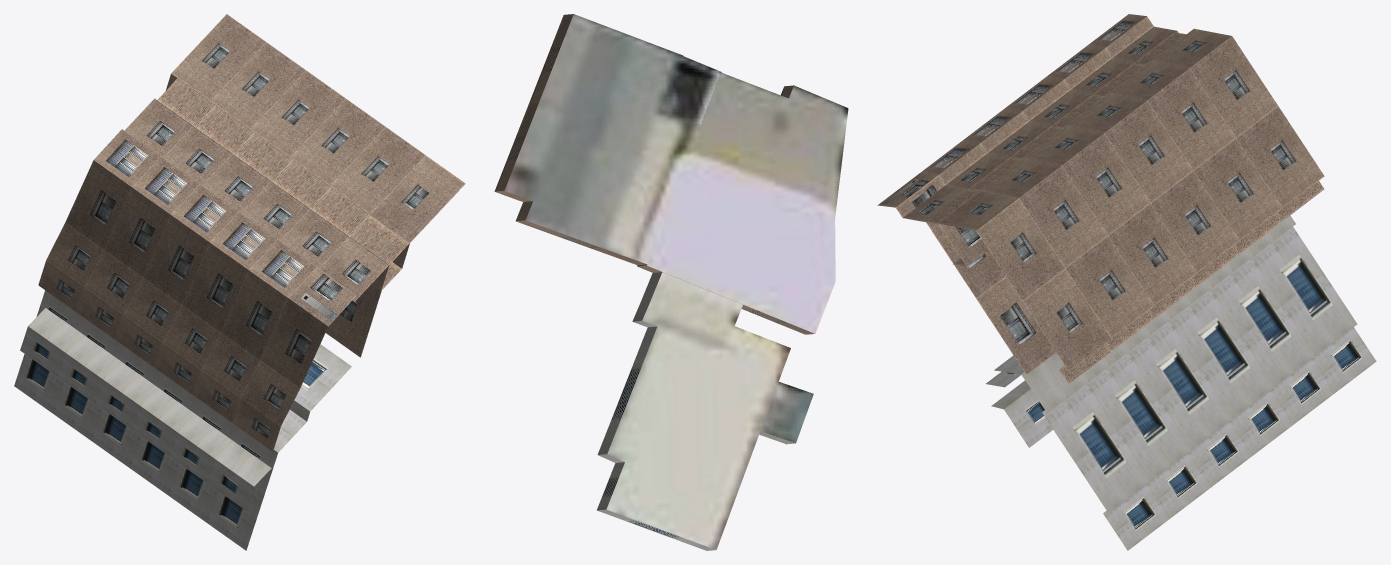
3 renders of one model, left to right at view 1: azimuth 30°, elevation 25°; view 2: azimuth 150°, elevation 25°; view 3: azimuth 270°, elevation 25°, orthographic. The views are drawn at different scales.
Size of the model in its own units: 25.71 by 34.87 by 29.7.
Materials: 16 (16 with a texture image).
